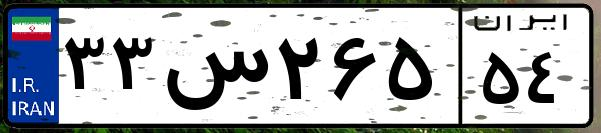2: (270, 28, 330, 110)
3: (57, 26, 110, 100), (110, 28, 158, 98)
4: (525, 38, 570, 115)
5: (385, 28, 445, 110), (475, 38, 525, 113)
6: (330, 28, 385, 110)
س: (158, 20, 270, 120)
